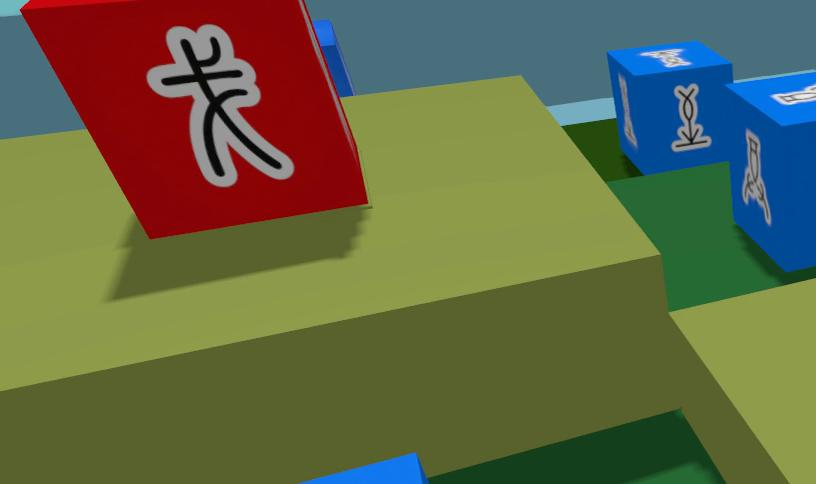KFS_FAKE: (21, 0, 368, 238)
KFS_REAL: (146, 25, 293, 187), (725, 73, 815, 270), (607, 41, 732, 173), (312, 20, 353, 96), (639, 48, 689, 67), (772, 83, 815, 104)
